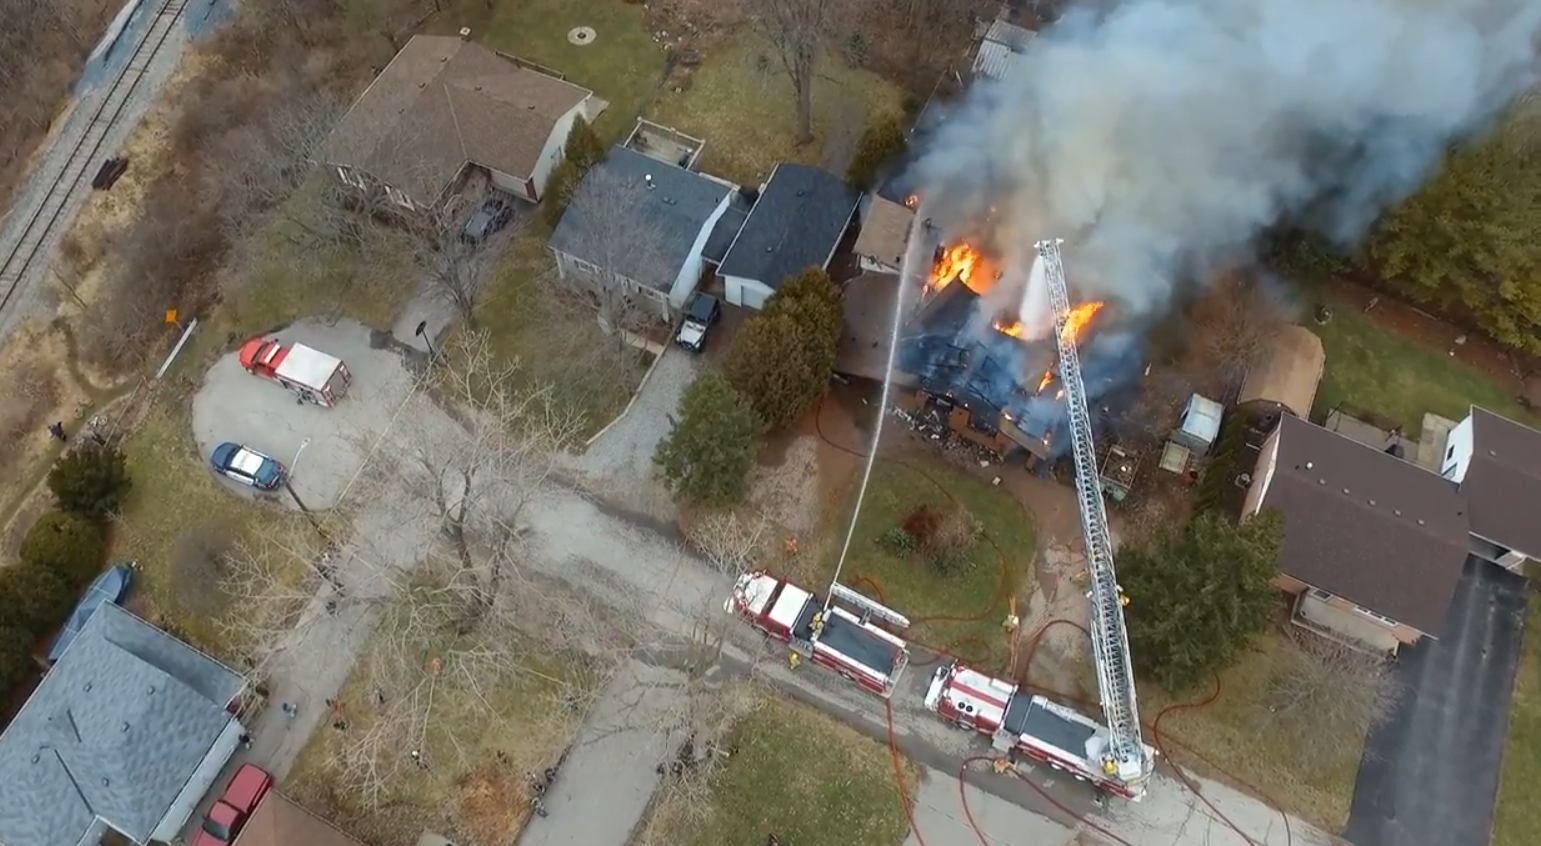fire: (933, 224, 1096, 367)
